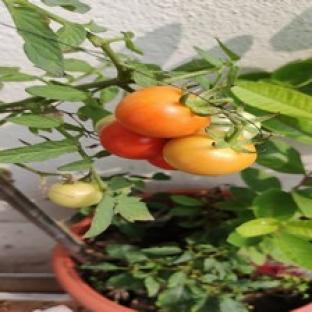Tomato: (116, 87, 210, 137), (163, 134, 257, 175), (99, 122, 167, 158), (48, 182, 101, 208), (236, 112, 260, 139), (148, 152, 176, 169), (95, 115, 115, 133)
